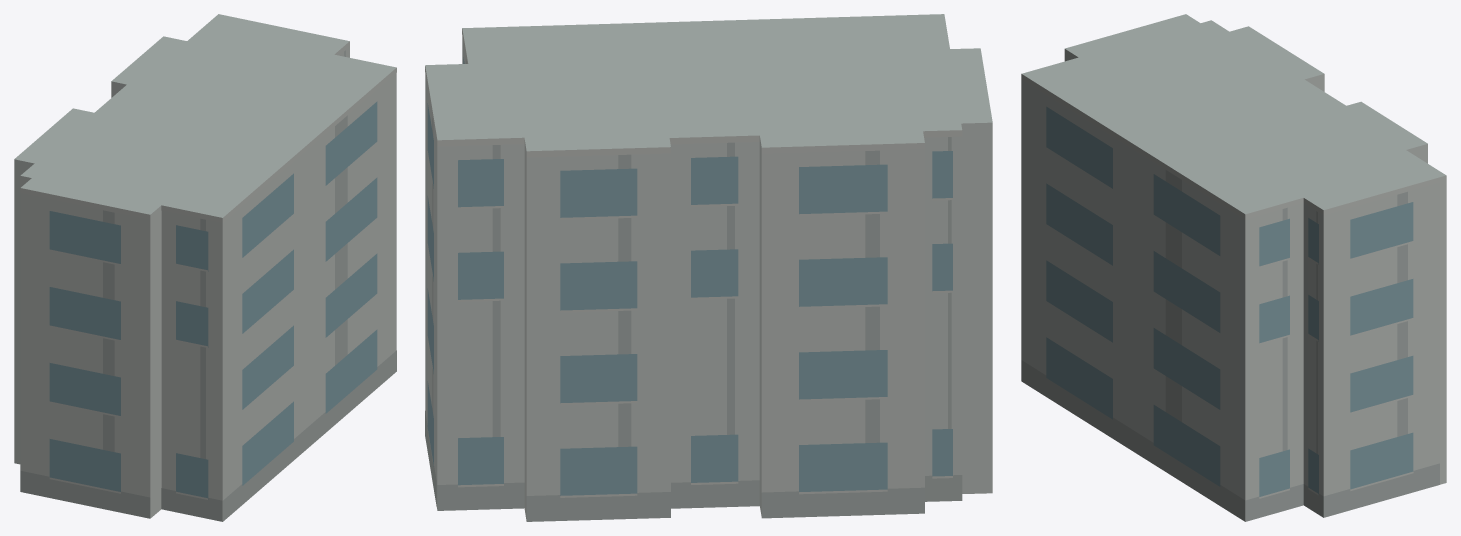
The model's file is residential-6f4ce526-e41e-4187-bc7b-a82341bb5717.glb.
3 renders of one model, left to right at view 1: azimuth 30°, elevation 25°; view 2: azimuth 150°, elevation 25°; view 3: azimuth 270°, elevation 25°, orthographic. The views are drawn at different scales.
Visible parts, largest first — view 1: residential-6f4ce526-e41e-4187-bc7b-a82341bb5717.tmp; view 2: residential-6f4ce526-e41e-4187-bc7b-a82341bb5717.tmp; view 3: residential-6f4ce526-e41e-4187-bc7b-a82341bb5717.tmp.
Part boxes in pixels (x1,y1,x2,y2): residential-6f4ce526-e41e-4187-bc7b-a82341bb5717.tmp: (14, 14, 396, 521); residential-6f4ce526-e41e-4187-bc7b-a82341bb5717.tmp: (425, 14, 992, 521); residential-6f4ce526-e41e-4187-bc7b-a82341bb5717.tmp: (1021, 14, 1446, 521).
Bounding box in the file's own units: 19.56 × 14 × 17.54.
